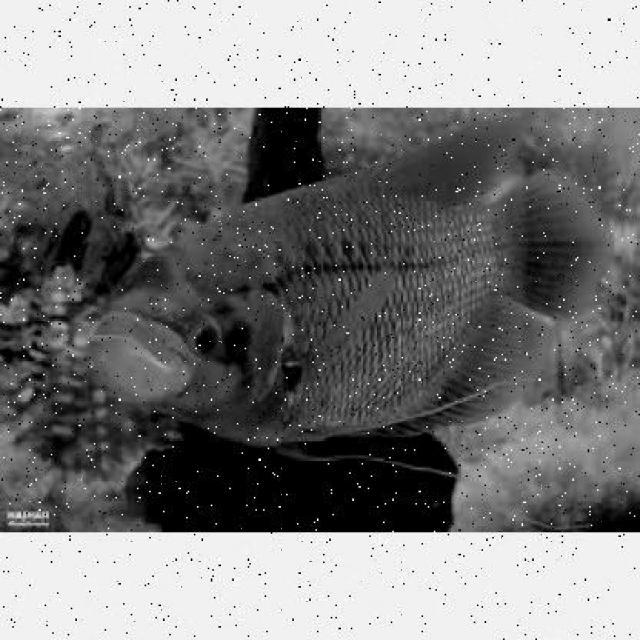gurame: (84, 136, 578, 464)
